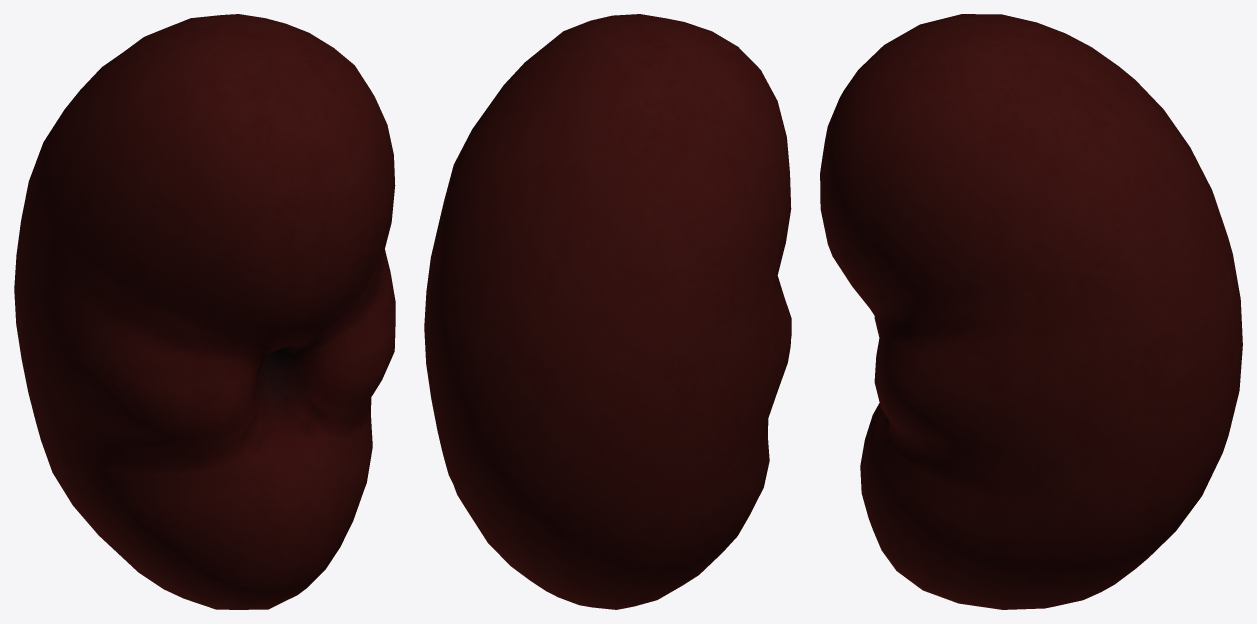
File: Rinon_textu.glb
3 views of the same model, side by side, from view 1: azimuth 30°, elevation 25°; view 2: azimuth 150°, elevation 25°; view 3: azimuth 270°, elevation 25° (orthographic). The views are drawn at different scales.
Parts seen in each view (by area): view 1: RINON_COMPLETO; view 2: RINON_COMPLETO; view 3: RINON_COMPLETO.
Part boxes in pixels (x1,y1,x2,y2): RINON_COMPLETO: [14, 14, 395, 609]; RINON_COMPLETO: [424, 14, 791, 609]; RINON_COMPLETO: [820, 14, 1242, 609].
Size of the model in its own units: 1.38 by 2.41 by 1.61.
1 material, 1 textured.
